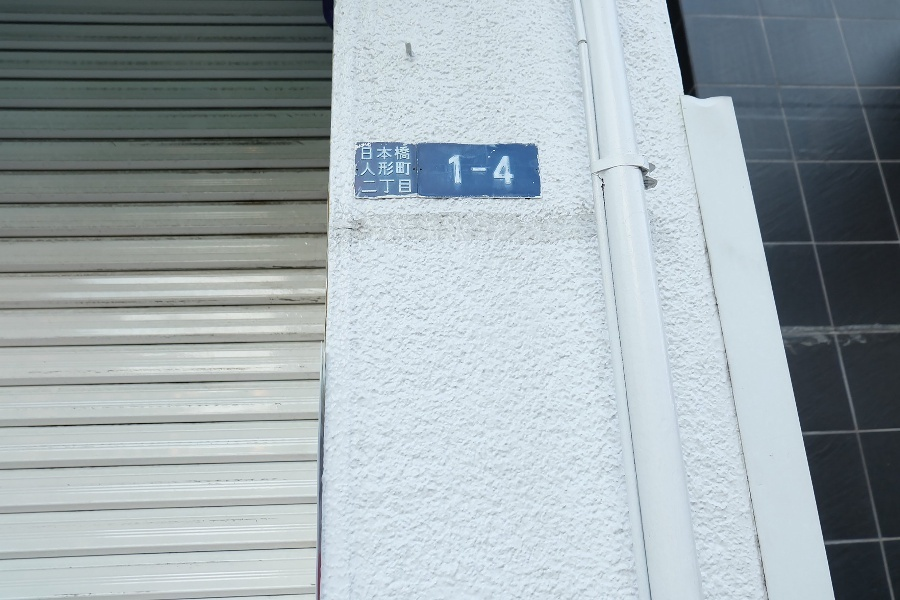text: (449, 156, 464, 184), (465, 156, 480, 184), (481, 156, 496, 184), (497, 156, 512, 184), (369, 147, 384, 161), (385, 147, 400, 161), (369, 163, 384, 177), (385, 163, 400, 177), (369, 180, 384, 194), (385, 180, 400, 194), (401, 163, 411, 177), (401, 180, 411, 194), (401, 147, 410, 161), (361, 163, 368, 177), (362, 147, 368, 161), (363, 180, 368, 194), (513, 156, 515, 184)
